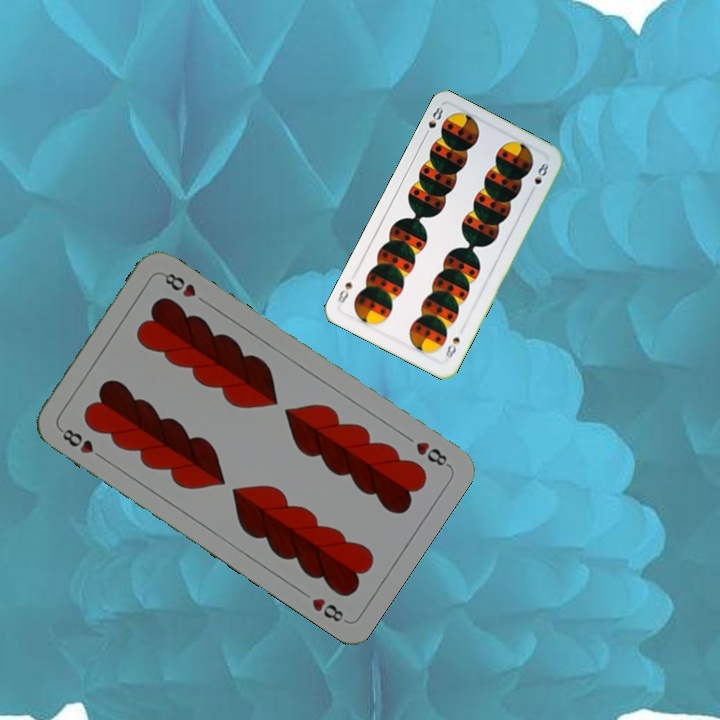H8: (55, 424, 108, 463), (411, 437, 452, 470)
S8: (420, 103, 446, 140), (441, 333, 462, 364)
